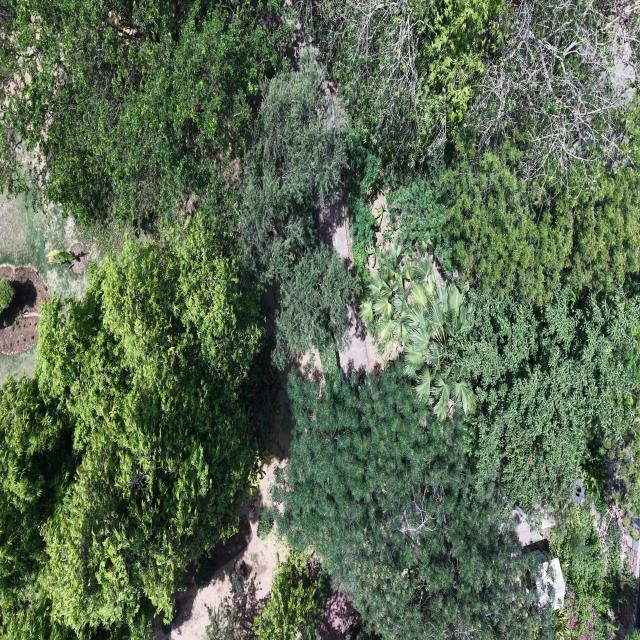DRY_AREA: (155, 411, 291, 639), (155, 411, 290, 639), (156, 412, 290, 639), (156, 416, 290, 639), (157, 424, 289, 639), (156, 455, 286, 639), (0, 195, 99, 383), (0, 265, 50, 355), (319, 189, 352, 269), (372, 192, 394, 252)
VEGETATION_TREE: (0, 0, 639, 639), (2, 3, 353, 637), (381, 3, 639, 514), (3, 0, 352, 365), (0, 217, 261, 638), (275, 363, 635, 638), (37, 218, 260, 631), (383, 0, 639, 298), (275, 364, 551, 639), (362, 246, 639, 509), (447, 284, 639, 638), (0, 0, 288, 223), (296, 0, 638, 179), (458, 286, 639, 507), (389, 141, 639, 301), (238, 49, 354, 368), (296, 0, 508, 163), (433, 141, 639, 300), (461, 0, 639, 183), (239, 49, 348, 282), (434, 142, 572, 298), (0, 377, 77, 639), (361, 245, 475, 420), (550, 504, 634, 639), (205, 551, 328, 639), (403, 285, 476, 420), (273, 248, 354, 369), (361, 245, 436, 357), (388, 169, 454, 272), (254, 551, 328, 639), (344, 136, 382, 293), (202, 565, 259, 639), (350, 198, 379, 288), (614, 437, 639, 529), (615, 437, 639, 526), (204, 606, 250, 639), (257, 506, 275, 540), (47, 250, 76, 269), (0, 279, 14, 313), (628, 627, 639, 639)
